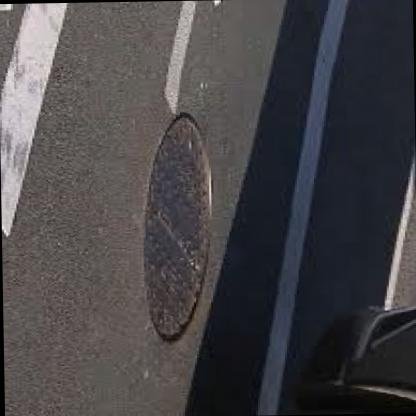manholes: (114, 94, 241, 364)
